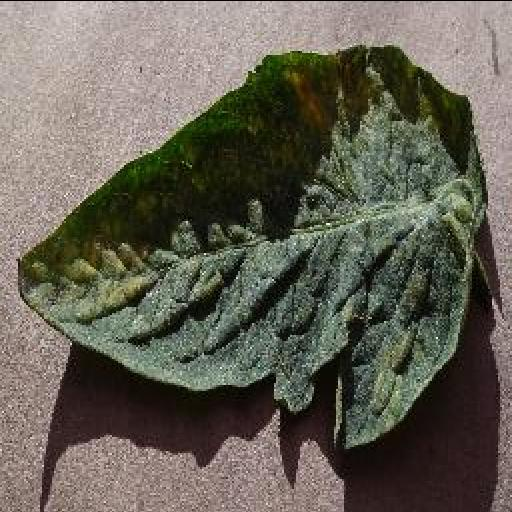disease_tomato: (12, 45, 484, 445)
